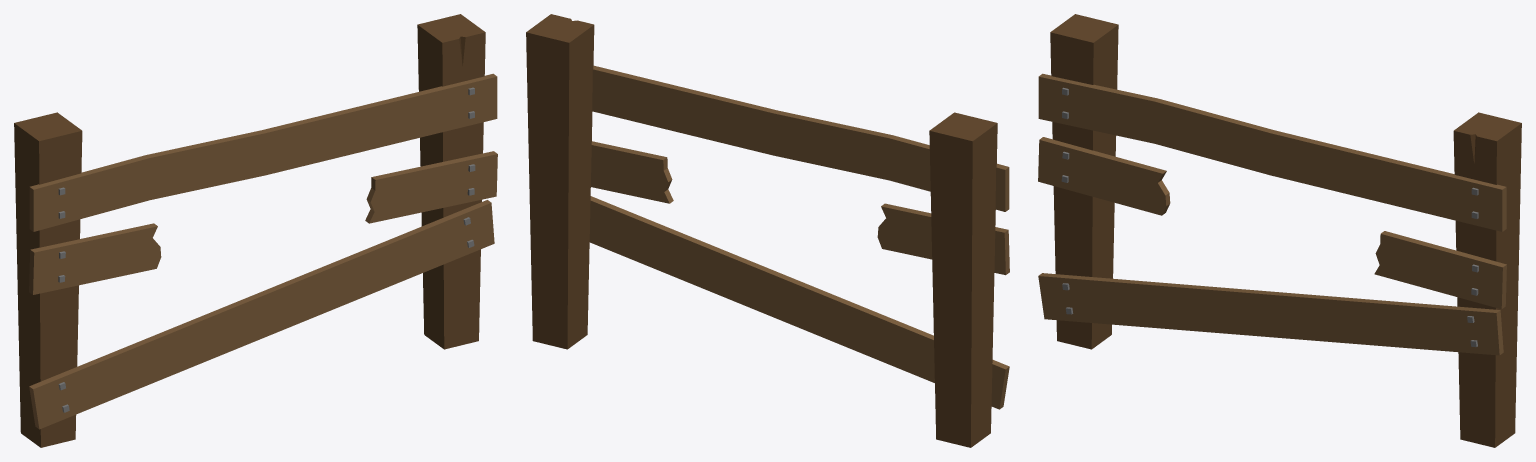
Rendered from Mesh_Props_Fence_03.FBX.
The picture shows the model from 3 angles, left to right: view 1: azimuth 30°, elevation 25°; view 2: azimuth 150°, elevation 25°; view 3: azimuth 330°, elevation 25°; orthographic projection.
Visible parts, largest first — view 1: Mesh_Props_Fence_03; view 2: Mesh_Props_Fence_03; view 3: Mesh_Props_Fence_03.
Part boxes in pixels (left/top/right/bottom): Mesh_Props_Fence_03: left=14, top=14, right=497, bottom=447; Mesh_Props_Fence_03: left=526, top=14, right=1009, bottom=447; Mesh_Props_Fence_03: left=1038, top=14, right=1521, bottom=447.
Size of the model in its own units: 68.07 by 43.31 by 7.49.
